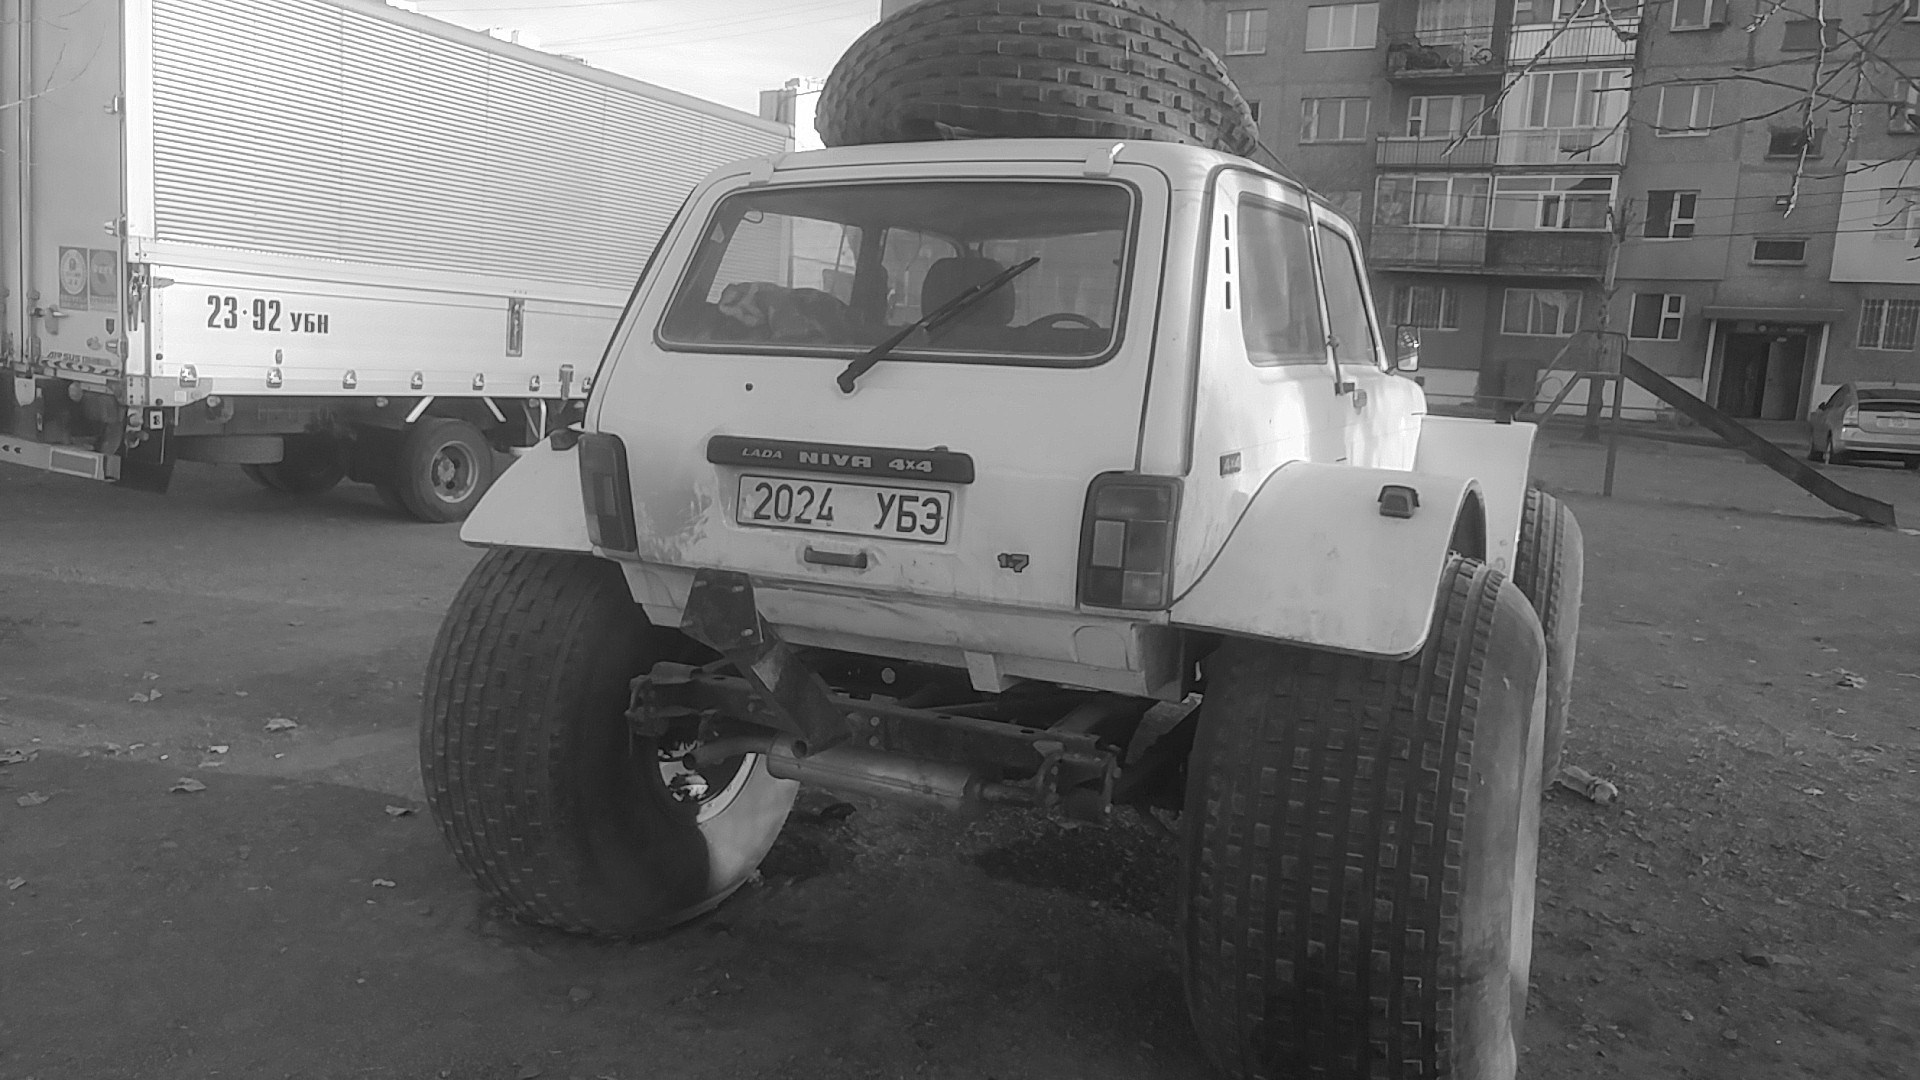0: (774, 483, 793, 522)
2: (794, 485, 817, 525), (752, 482, 774, 520)
4: (817, 486, 836, 527)
b: (895, 495, 921, 532)
e: (920, 497, 943, 535)
plate: (733, 467, 957, 549)
u: (873, 491, 897, 530)
